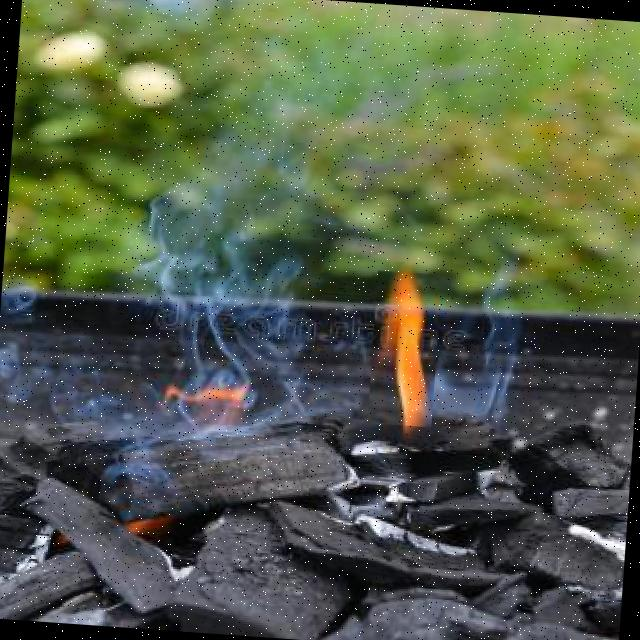fire: (366, 270, 442, 427), (160, 371, 256, 426)
